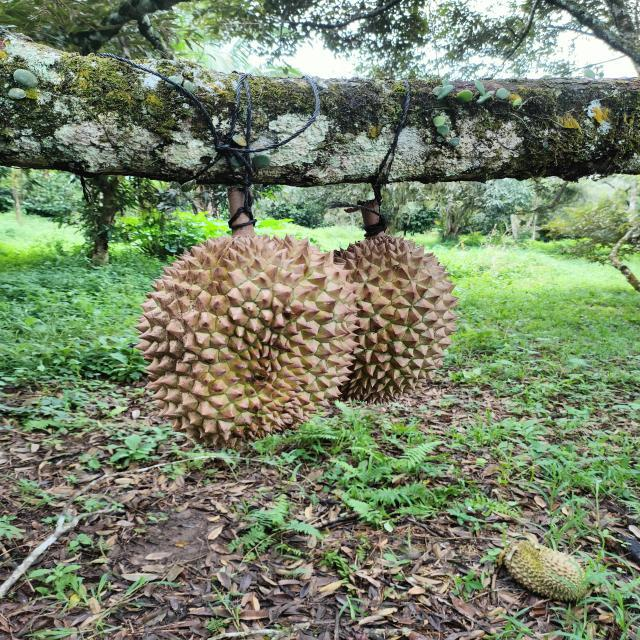mature: (136, 233, 360, 453), (318, 236, 459, 405)
